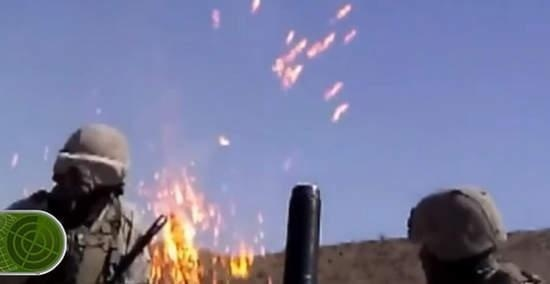fire: (137, 165, 268, 281), (277, 30, 336, 74), (273, 34, 307, 88), (324, 82, 348, 121), (303, 29, 336, 55), (323, 79, 344, 99), (331, 99, 348, 121), (335, 2, 353, 18), (343, 27, 358, 42), (209, 7, 220, 26), (217, 131, 231, 144), (251, 0, 261, 12)
